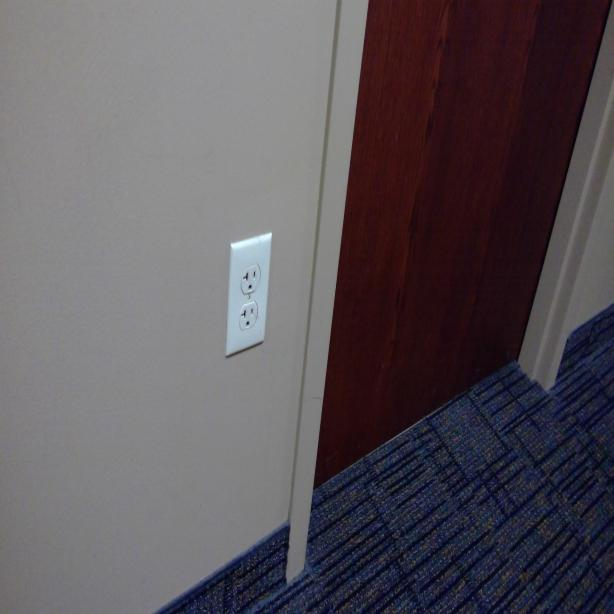typeb: (242, 266, 260, 293), (241, 305, 257, 328)
